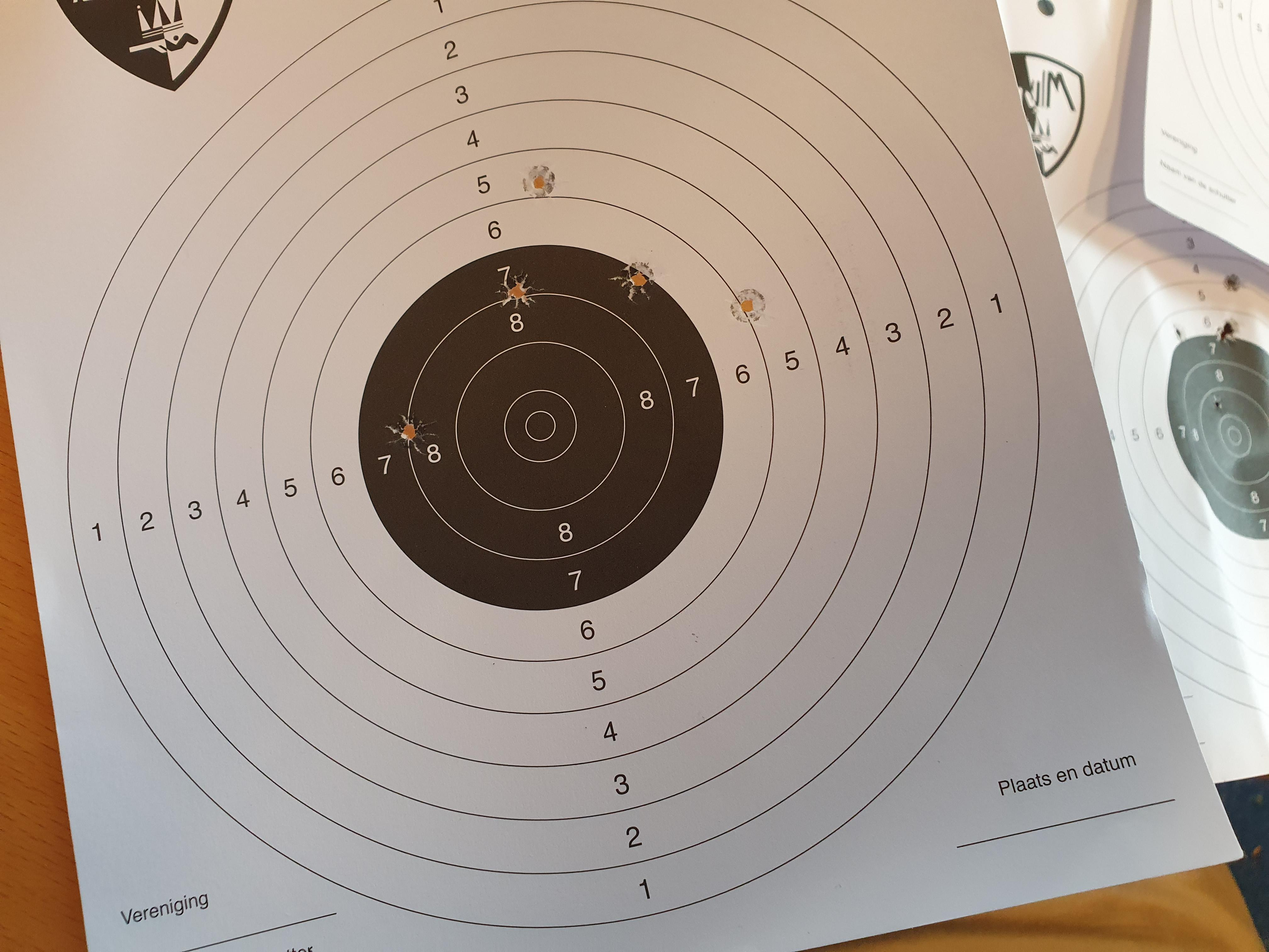hole: (620, 261, 659, 302), (497, 271, 540, 308), (388, 414, 429, 450), (731, 287, 767, 324), (523, 164, 556, 199)
